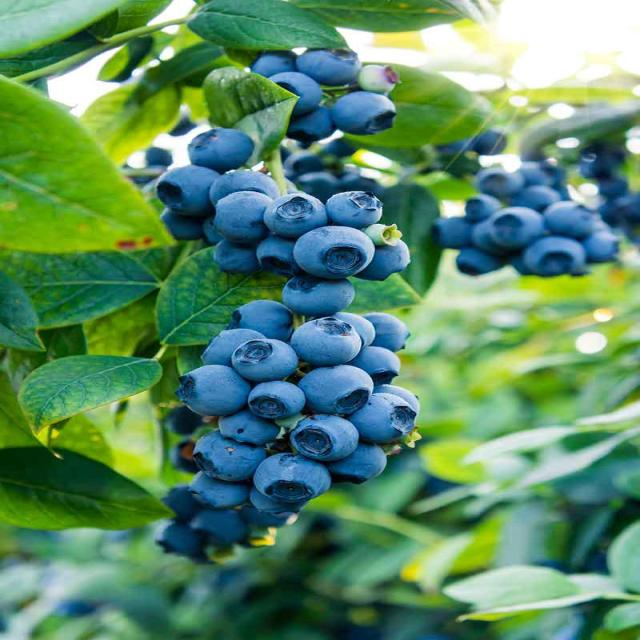BlueBerry - v1: (173, 362, 257, 421), (186, 428, 276, 483), (246, 449, 336, 504), (290, 222, 371, 278), (285, 314, 366, 370), (292, 363, 373, 417), (325, 89, 407, 139), (149, 162, 222, 218), (340, 390, 419, 441), (273, 270, 357, 317), (207, 189, 279, 243), (228, 298, 305, 348), (285, 412, 362, 462), (226, 336, 304, 385), (183, 124, 259, 174), (199, 165, 284, 208), (324, 436, 395, 487), (292, 38, 367, 85), (263, 189, 333, 238), (521, 232, 592, 278), (479, 203, 547, 249), (536, 194, 602, 241), (181, 464, 247, 511), (264, 70, 330, 116), (183, 503, 265, 540), (196, 327, 267, 368), (282, 100, 344, 146), (359, 309, 418, 357), (358, 241, 416, 289), (322, 188, 388, 230), (242, 381, 308, 422), (215, 411, 288, 448), (348, 343, 403, 389), (466, 162, 529, 202), (454, 243, 516, 282), (426, 210, 486, 250), (210, 237, 264, 278), (350, 61, 406, 98), (242, 490, 311, 519), (521, 158, 576, 193), (250, 48, 304, 83), (253, 235, 304, 272), (378, 379, 425, 417), (333, 310, 379, 347), (585, 228, 626, 266), (466, 126, 511, 160), (359, 217, 406, 249), (525, 181, 565, 211)
